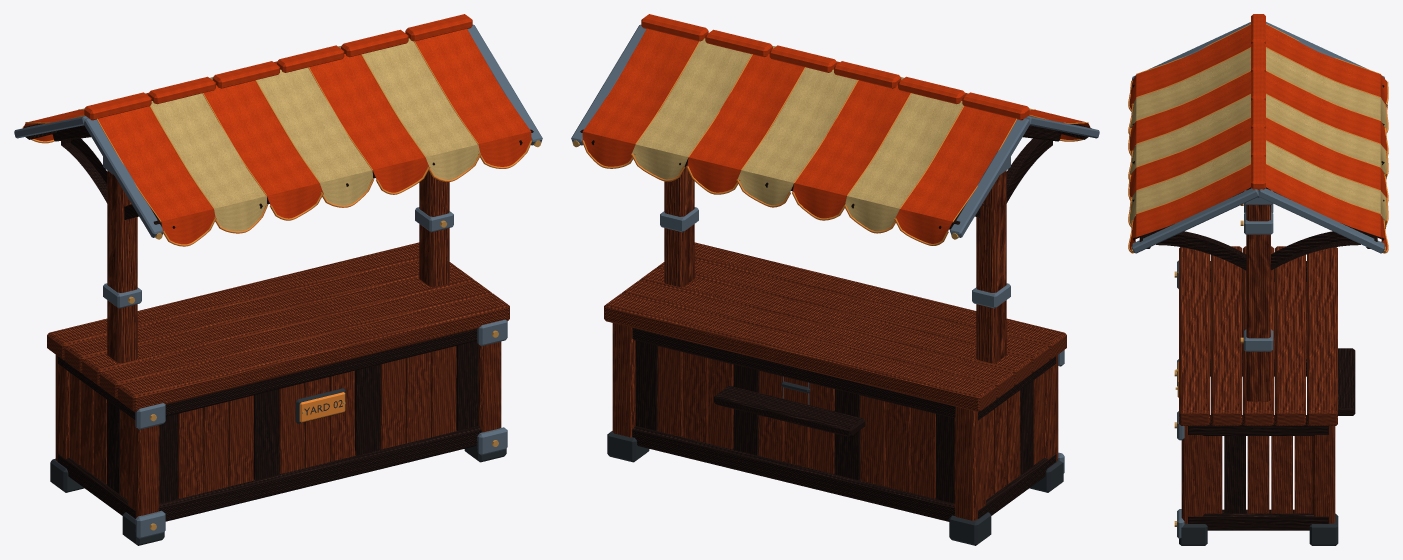
Rendered from market-awning-stall.glb.
The picture shows the model from 3 angles, left to right: view 1: azimuth 30°, elevation 25°; view 2: azimuth 150°, elevation 25°; view 3: azimuth 270°, elevation 25°; orthographic projection. The views are drawn at different scales.
Parts seen in each view (by area): view 1: market-awning-stall; view 2: market-awning-stall; view 3: market-awning-stall.
Part boxes in pixels (<box>): market-awning-stall: <box>14,14,542,545</box>; market-awning-stall: <box>571,14,1099,545</box>; market-awning-stall: <box>1128,14,1388,545</box>.
Bounding box in the file's own units: 2.99 × 2.99 × 1.91.
Materials: 8 (4 with a texture image).
